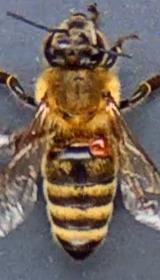varroa_mite: (80, 128, 120, 162)
